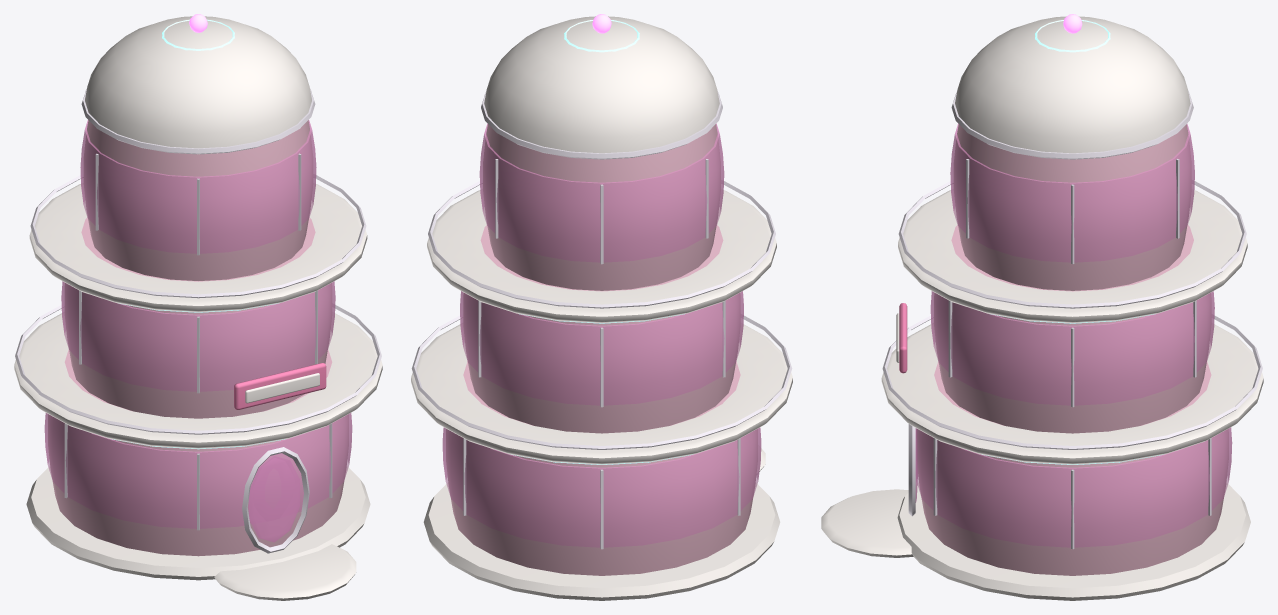
Rendered from building_bubble.glb.
3 renders of one model, left to right at view 1: azimuth 30°, elevation 25°; view 2: azimuth 150°, elevation 25°; view 3: azimuth 270°, elevation 25°, orthographic. The views are drawn at different scales.
Parts seen in each view (by area): view 1: building_bubble; view 2: building_bubble; view 3: building_bubble.
Part boxes in pixels (x1=…): building_bubble: x1=14, y1=14, x2=382, y2=600; building_bubble: x1=411, y1=14, x2=792, y2=600; building_bubble: x1=821, y1=14, x2=1263, y2=600.
Size of the model in its own units: 7.71 by 11.4 by 8.93.
